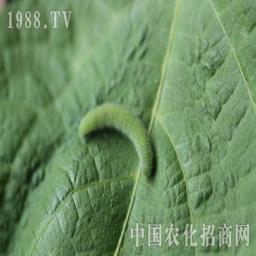Tobacco_budworm: (76, 103, 153, 180)
